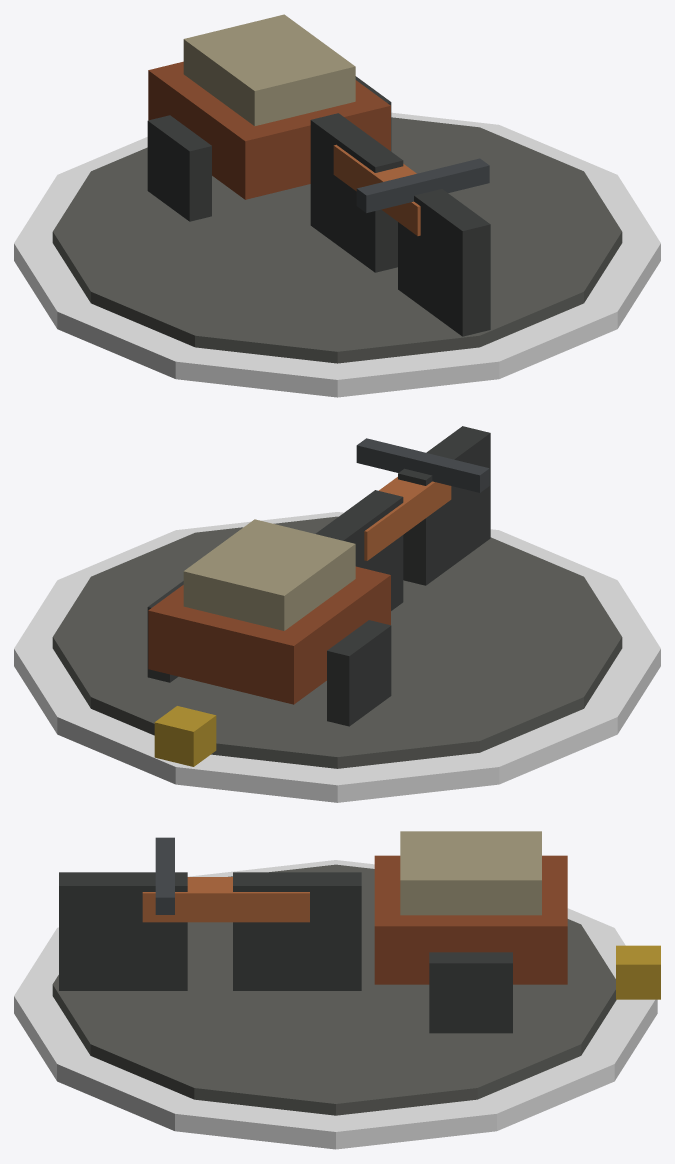
File: vehicle_token_t1.glb
The picture shows the model from 3 angles, top to bottom: view 1: azimuth 30°, elevation 25°; view 2: azimuth 150°, elevation 25°; view 3: azimuth 270°, elevation 25°; orthographic projection.
Parts seen in each view (by area): view 1: vehicle_token_t1; view 2: vehicle_token_t1; view 3: vehicle_token_t1.
Boxes of the visible parts, bbox=[...] form: vehicle_token_t1: bbox=[14, 14, 660, 397]; vehicle_token_t1: bbox=[14, 426, 660, 802]; vehicle_token_t1: bbox=[14, 831, 660, 1149].
Bounding box in the file's own units: 1 × 0.27 × 1.
